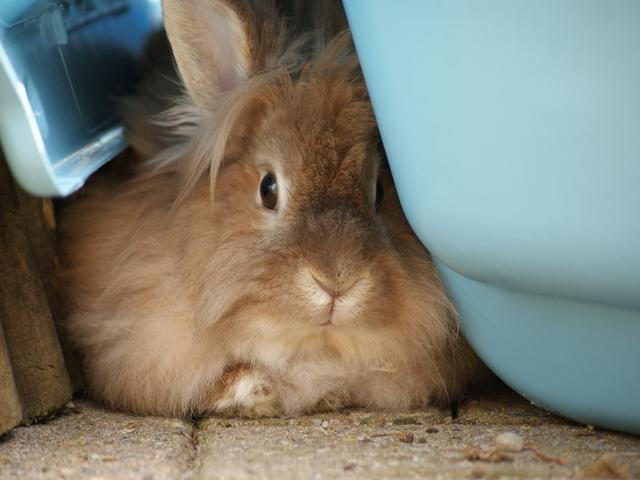rabbit: (58, 7, 522, 448)
